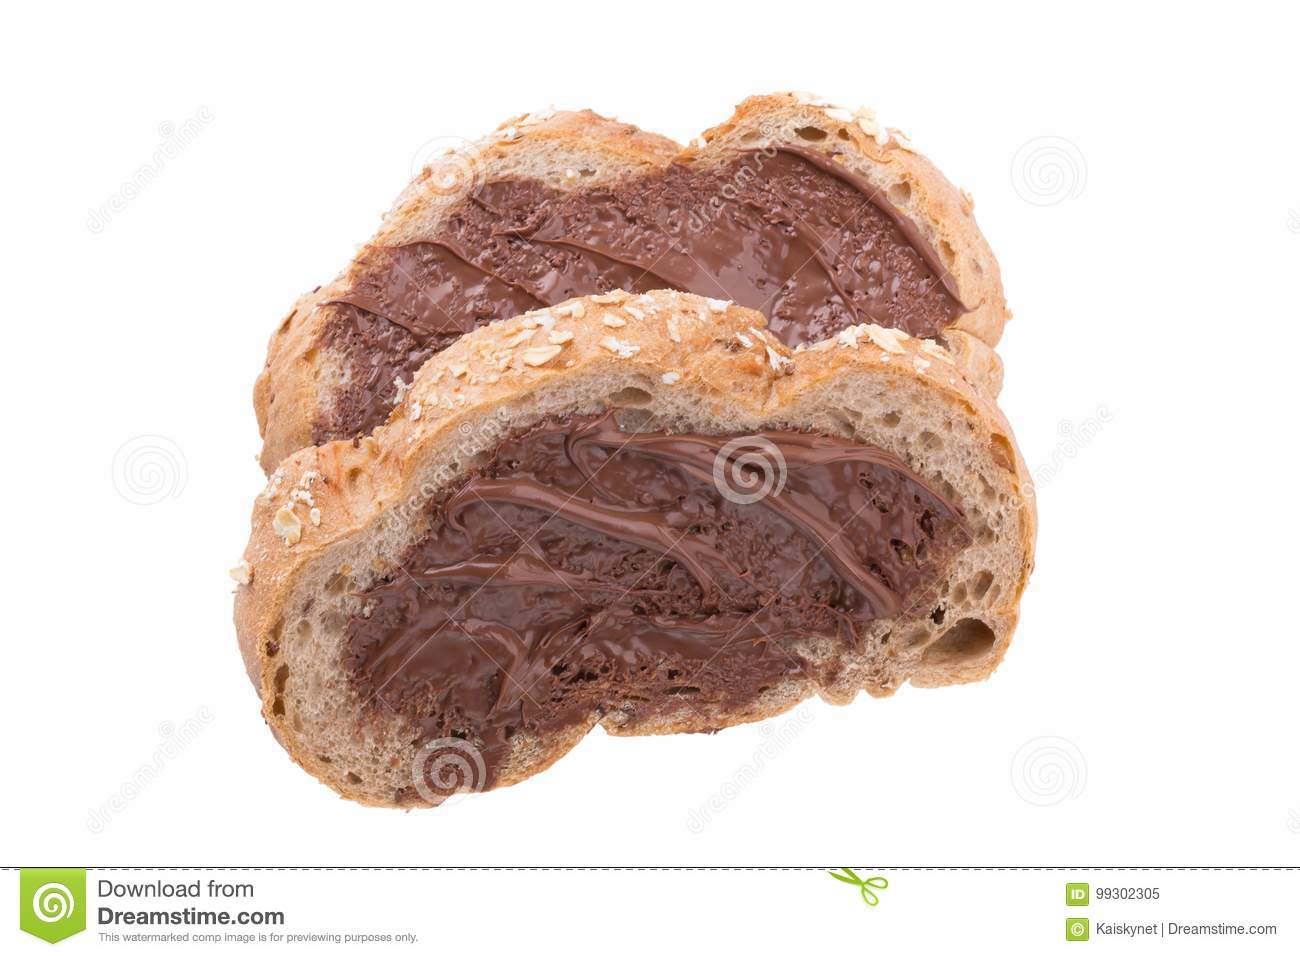slice of bread: (269, 303, 1026, 786), (249, 90, 1007, 452)
